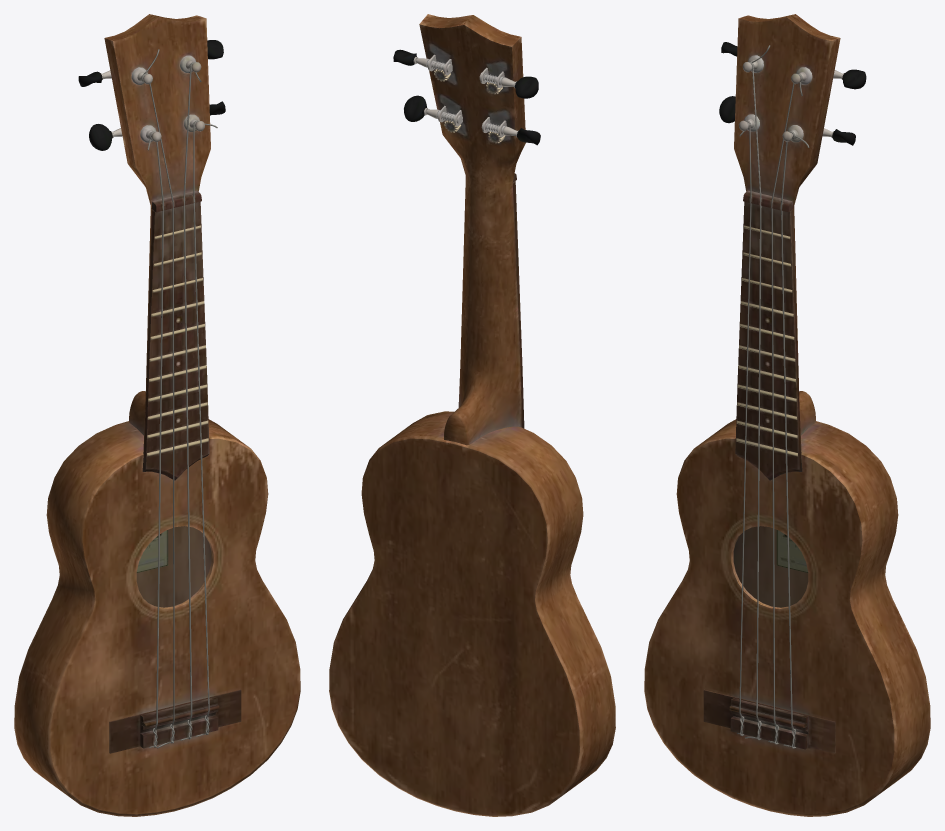
The model's file is design-ukulele-01.glb.
The picture shows the model from 3 angles, left to right: view 1: azimuth 30°, elevation 25°; view 2: azimuth 150°, elevation 25°; view 3: azimuth 330°, elevation 25°; orthographic projection.
Visible parts, largest first — view 1: Ukulele_01; view 2: Ukulele_01; view 3: Ukulele_01.
Part boxes in pixels (x1,y1,x2,y2): Ukulele_01: (14,14,300,816); Ukulele_01: (329,14,615,816); Ukulele_01: (644,14,930,816).
Size of the model in its own units: 0.1779 by 0.527 by 0.0508.
1 material, 1 textured.
